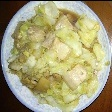juanxincairoupian: (7, 7, 105, 108)
